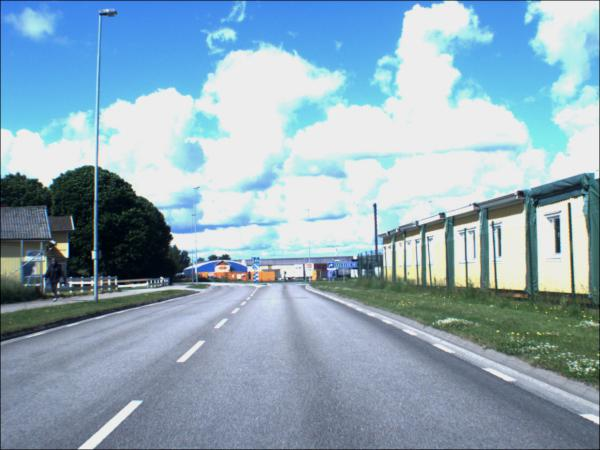PASS_RIGHT_SIDE: (256, 265, 262, 271)
PEDESTRIAN_CROSSING: (256, 259, 262, 265)
